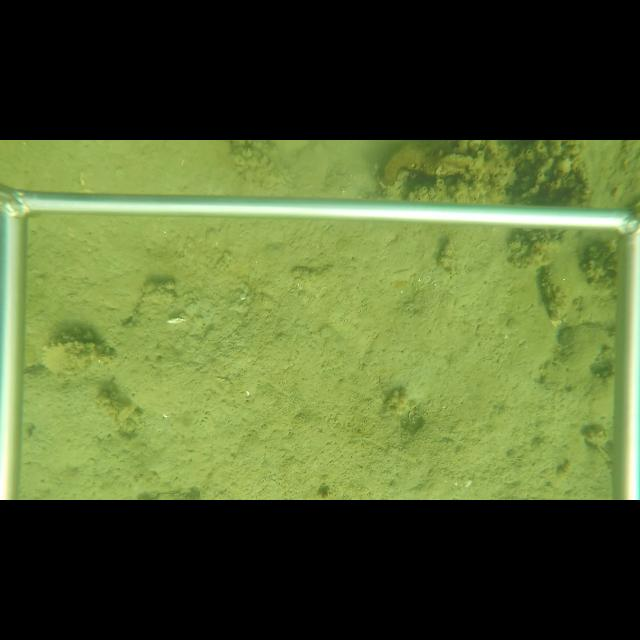Oyster-Closed: (40, 340, 118, 379)
